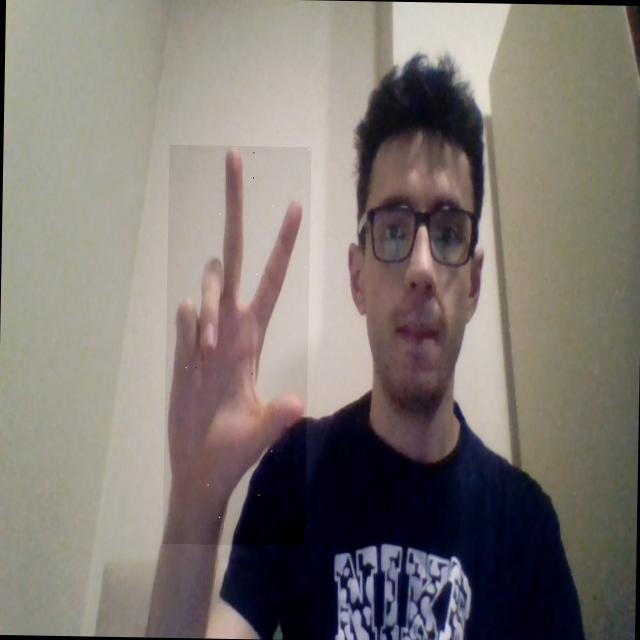no: (162, 144, 311, 546)
